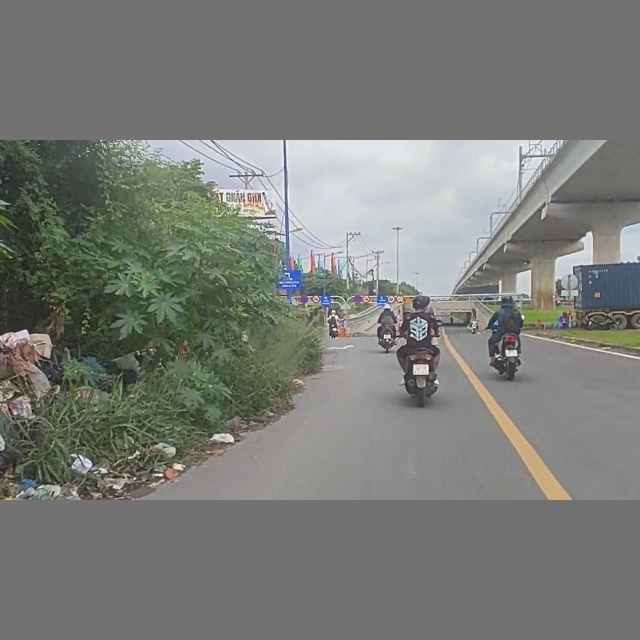P.107: (362, 294, 371, 303), (311, 295, 321, 303)
P.117*: (396, 295, 405, 303)
P.127*40: (387, 295, 395, 304)
P.130: (353, 295, 362, 303), (299, 295, 307, 303)
